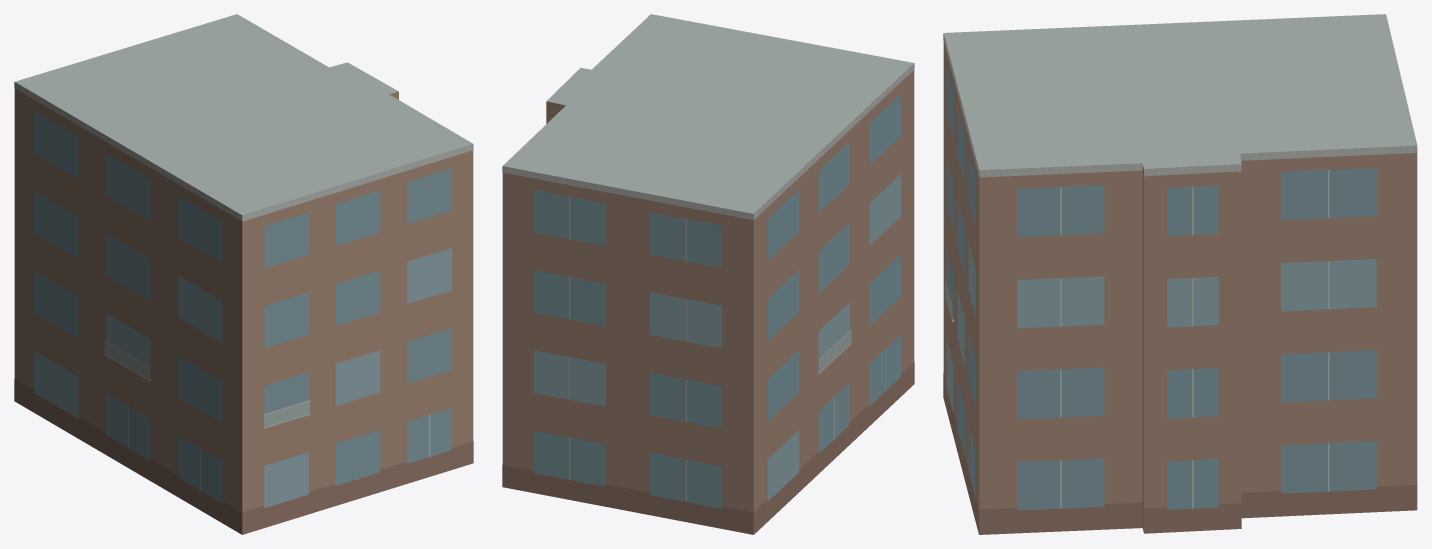
File: survey-upis-33017281.glb
3 renders of one model, left to right at view 1: azimuth 30°, elevation 25°; view 2: azimuth 150°, elevation 25°; view 3: azimuth 270°, elevation 25°, orthographic. The views are drawn at different scales.
Visible parts, largest first — view 1: survey-upis-33017281.tmp; view 2: survey-upis-33017281.tmp; view 3: survey-upis-33017281.tmp.
Part boxes in pixels (box(x1,y1,x2,y2)): survey-upis-33017281.tmp: box(14, 14, 473, 534); survey-upis-33017281.tmp: box(502, 14, 914, 534); survey-upis-33017281.tmp: box(943, 14, 1417, 534).
Bounding box in the file's own units: 11.31 × 12.3 × 14.5.
